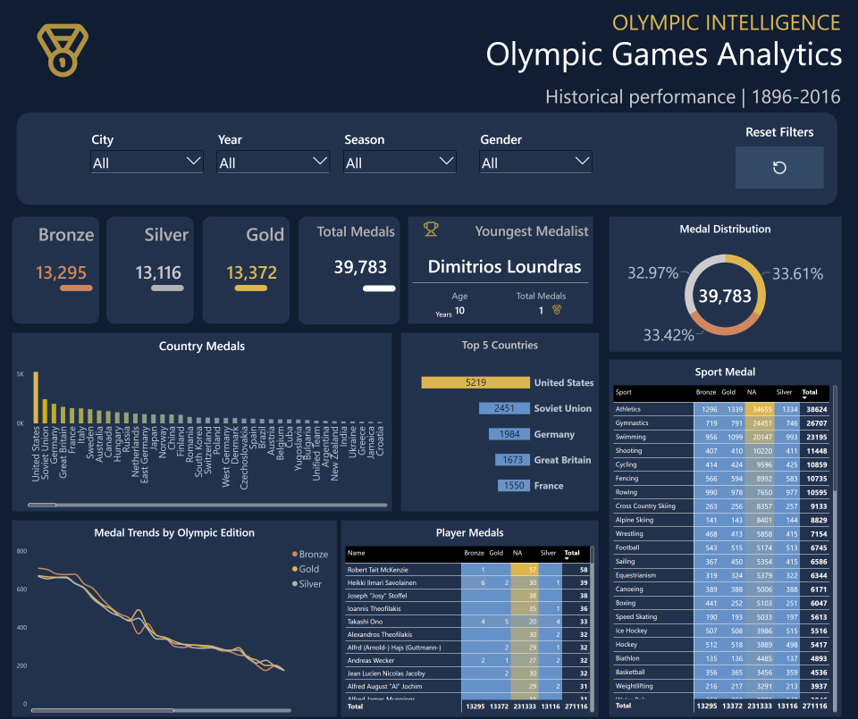

The page's visual inventory and layout, read from the dashboard file:
{"tool":"powerbi","page":{"name":"Page 1","canvas":[1920,1600],"ordinal":0},"visuals":[{"type":"columnChart","title":"Country Medals","fields":{"Category":["athlete_events.Team"],"Y":["CountNonNull(athlete_events.Medal)"]},"box":[26.7,740,850,400],"z":0},{"type":"shape","box":[26.7,236.7,1856.7,226.7],"z":1000},{"type":"slicer","fields":{"Values":["country_definitions.Region"]},"box":[186.7,276.7,283.3,113.3],"z":2000},{"type":"textbox","box":[1360,0,540,106.7],"z":3000},{"type":"textbox","box":[1210,170,690,83.3],"z":4000},{"type":"textbox","box":[1076.7,53.3,843.3,116.7],"z":5000},{"type":"image","box":[26.7,33.3,226.7,150],"z":6000},{"type":"slicer","fields":{"Values":["athlete_events.Year"]},"box":[470,276.7,283.3,113.3],"z":7000},{"type":"slicer","fields":{"Values":["athlete_events.Season"]},"box":[753.3,276.7,283.3,113.3],"z":8000},{"type":"slicer","fields":{"Values":["athlete_events.Sex"]},"box":[1056.7,276.7,283.3,113.3],"z":9000},{"type":"cardVisual","title":"Bronze","fields":{"Data":["CountNonNull(athlete_events.Medal)"]},"box":[26.7,480,195,240],"z":10000,"group":"g1"},{"type":"barChart","title":"Top 5 Countries","fields":{"Category":["athlete_events.Team"],"Y":["athlete_events.Count of Medales"]},"box":[896.7,740,443.3,400],"z":10000},{"type":"cardVisual","title":"Silver","fields":{"Data":["CountNonNull(athlete_events.Medal)"]},"box":[237.5,480,195,240],"z":11000,"group":"g2"},{"type":"donutChart","title":"Medal Distribution","fields":{"Category":["athlete_events.Medal"],"Y":["CountNonNull(athlete_events.Medal)"]},"box":[1362.5,480,520,302.5],"z":11000},{"type":"cardVisual","title":"Gold","fields":{"Data":["CountNonNull(athlete_events.Medal)"]},"box":[452.5,480,195,240],"z":12000,"group":"g3"},{"type":"pivotTable","title":"Player Medals","fields":{"Columns":["athlete_events.Medal"],"Rows":["athlete_events.Name"],"Values":["CountNonNull(athlete_events.ID)"]},"box":[763.3,1160,576.7,440],"z":12000},{"type":"cardVisual","title":"Total Medals","fields":{"Data":["CountNonNull(athlete_events.Medal)"]},"box":[667.5,480,226.8,241.6],"z":13000,"group":"g4"},{"type":"pivotTable","title":"Sport Medal","fields":{"Columns":["athlete_events.Medal"],"Rows":["athlete_events.Sport"],"Values":["CountNonNull(athlete_events.ID)"]},"box":[1363.3,800,520,800],"z":13000},{"type":"shape","box":[124.2,623.2,93.3,33.9],"z":14000,"group":"g1"},{"type":"lineChart","title":"Medal Trends by Olympic Edition","fields":{"Category":["athlete_events.Games"],"Series":["athlete_events.Medal"],"Y":["CountNonNull(athlete_events.Medal)"]},"box":[26.7,1160,726.7,440],"z":14000},{"type":"group","id":"g1","title":"Group 1","box":[26.7,480,195,240],"z":15000},{"type":"shape","box":[327.9,623.2,93.3,33.9],"z":15000,"group":"g2"},{"type":"group","id":"g2","title":"Group 2","box":[237.5,480,197.5,240],"z":16000},{"type":"shape","box":[514.2,623.2,93.3,33.9],"z":16000,"group":"g3"},{"type":"group","id":"g3","title":"Group 3","box":[452.5,480,195,240],"z":17000},{"type":"shape","box":[801,624.1,93.3,33.9],"z":17000,"group":"g4"},{"type":"group","id":"g4","title":"Group 4","box":[667.5,480,227.5,240],"z":18000},{"type":"group","id":"g5","title":"Group 5","box":[912.5,480,412.5,240],"z":19000},{"type":"actionButton","title":"Reset Filters","box":[1636.2,260,217.5,167.5],"z":20000},{"type":"cardVisual","title":"Youngest Medalist","fields":{"Data":["athlete_events.YoungPlayer"]},"box":[912.5,480,414.2,240],"z":22000,"group":"g5"},{"type":"image","box":[1212.2,667.1,66.6,42.9],"z":23000,"group":"g5"},{"type":"textbox","box":[964.2,677.1,62.4,42.9],"z":24000,"group":"g5"},{"type":"image","box":[928.8,480,70.9,55.7],"z":25000,"group":"g5"}]}

Visuals, with their boxes in screenshot pixels (x1, y1, x2, y2), scaled from the page's 1920x1600 canvas onto the 858x719 screenshot:
"Country Medals" columnChart: (left=12, top=333, right=392, bottom=512)
shape: (left=12, top=106, right=842, bottom=208)
slicer - country_definitions.Region: (left=83, top=124, right=210, bottom=175)
textbox: (left=608, top=0, right=849, bottom=48)
textbox: (left=541, top=76, right=849, bottom=114)
textbox: (left=481, top=24, right=857, bottom=76)
image: (left=12, top=15, right=113, bottom=82)
slicer - athlete_events.Year: (left=210, top=124, right=337, bottom=175)
slicer - athlete_events.Season: (left=337, top=124, right=463, bottom=175)
slicer - athlete_events.Sex: (left=472, top=124, right=599, bottom=175)
"Bronze" cardVisual: (left=12, top=216, right=99, bottom=324)
"Top 5 Countries" barChart: (left=401, top=333, right=599, bottom=512)
"Silver" cardVisual: (left=106, top=216, right=193, bottom=324)
"Medal Distribution" donutChart: (left=609, top=216, right=841, bottom=352)
"Gold" cardVisual: (left=202, top=216, right=289, bottom=324)
"Player Medals" pivotTable: (left=341, top=521, right=599, bottom=718)
"Total Medals" cardVisual: (left=298, top=216, right=400, bottom=324)
"Sport Medal" pivotTable: (left=609, top=360, right=842, bottom=718)
shape: (left=56, top=280, right=97, bottom=295)
"Medal Trends by Olympic Edition" lineChart: (left=12, top=521, right=337, bottom=718)
"Group 1" group: (left=12, top=216, right=99, bottom=324)
shape: (left=147, top=280, right=188, bottom=295)
"Group 2" group: (left=106, top=216, right=194, bottom=324)
shape: (left=230, top=280, right=271, bottom=295)
"Group 3" group: (left=202, top=216, right=289, bottom=324)
shape: (left=358, top=280, right=400, bottom=296)
"Group 4" group: (left=298, top=216, right=400, bottom=324)
"Group 5" group: (left=408, top=216, right=592, bottom=324)
"Reset Filters" actionButton: (left=731, top=117, right=828, bottom=192)
"Youngest Medalist" cardVisual: (left=408, top=216, right=593, bottom=324)
image: (left=542, top=300, right=571, bottom=319)
textbox: (left=431, top=304, right=459, bottom=324)
image: (left=415, top=216, right=447, bottom=241)
